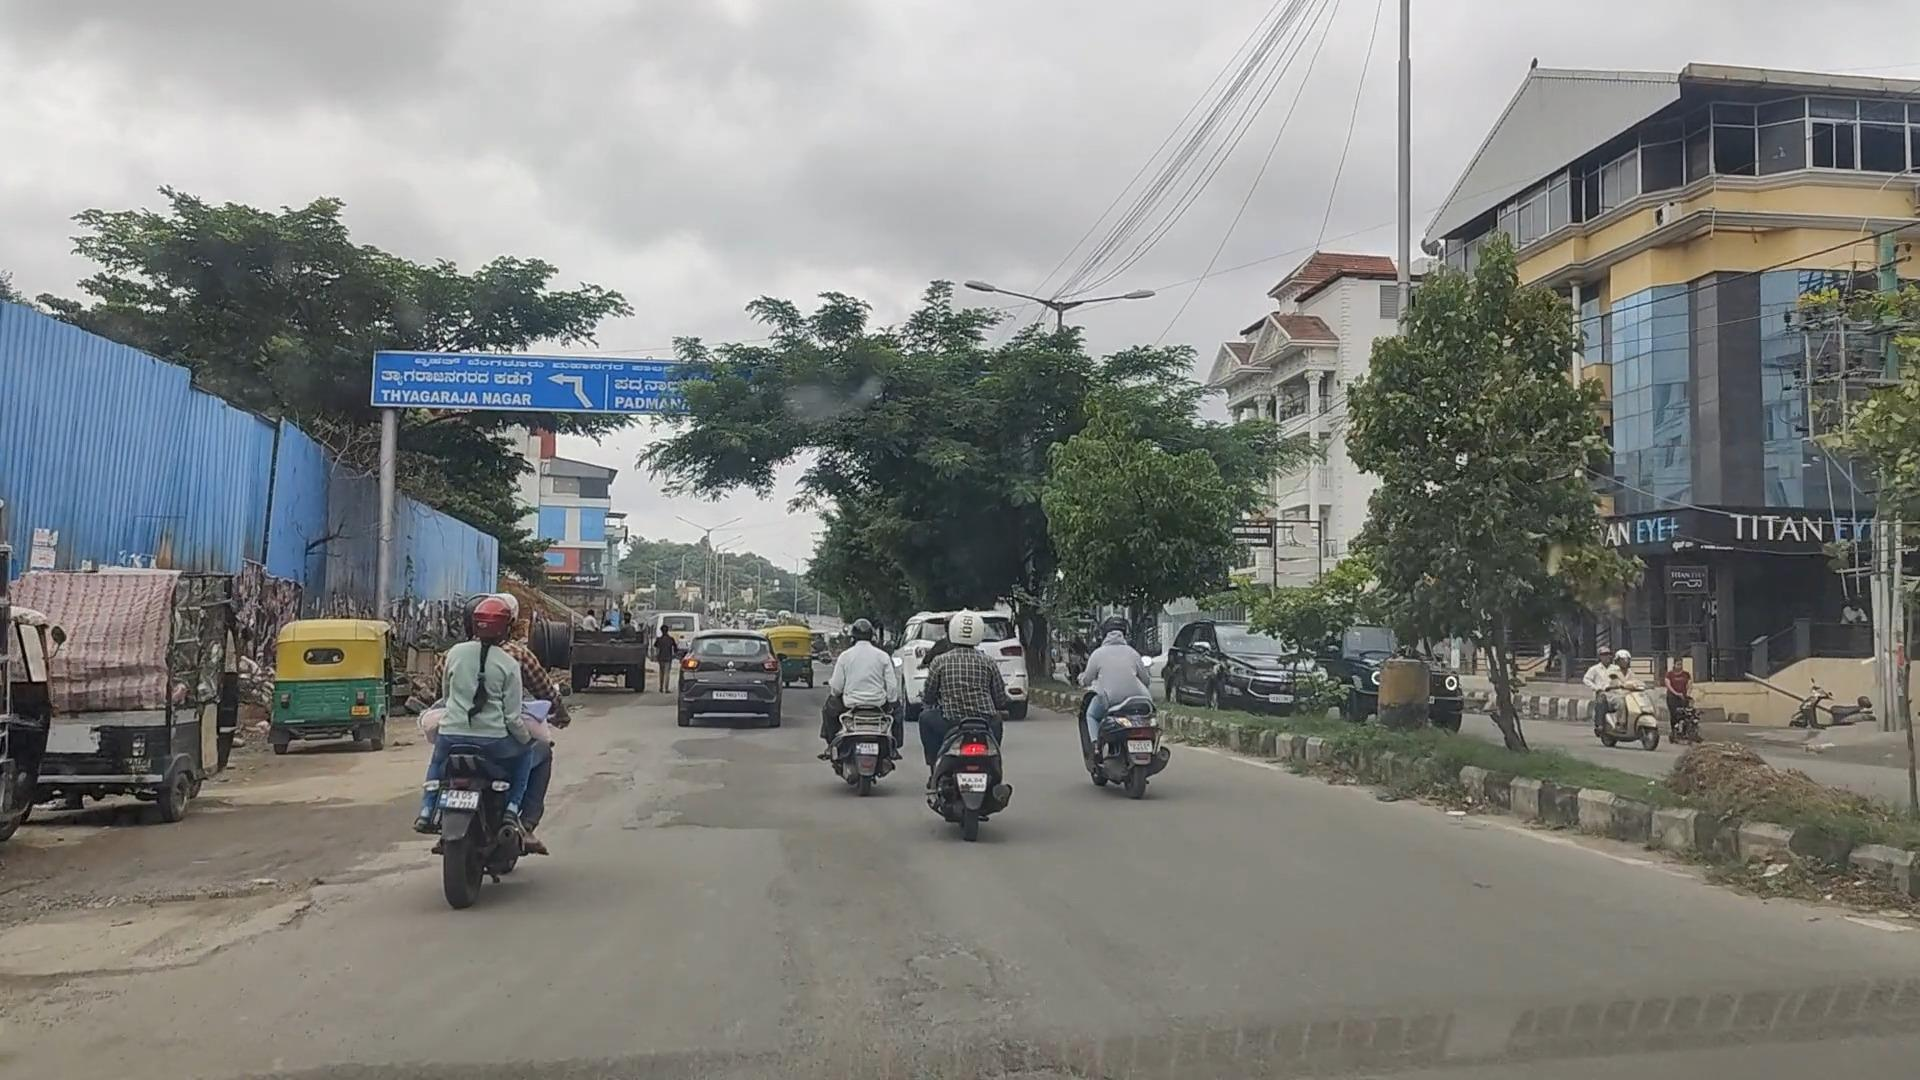LMV: (427, 593, 542, 897), (1069, 613, 1159, 800), (936, 613, 1004, 831), (284, 620, 384, 745), (836, 626, 897, 786), (690, 630, 782, 727)
RoadDamages: (0, 877, 297, 977), (574, 713, 731, 831), (893, 936, 1039, 1036), (836, 1036, 1120, 1080)
